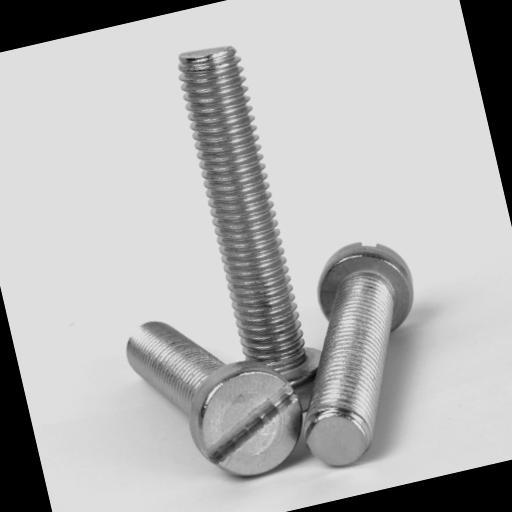Slotted: (181, 351, 314, 493)
